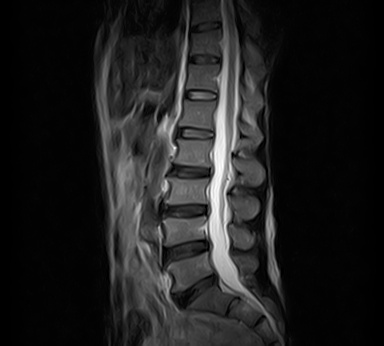L1,v2: (170, 94, 226, 133)
L2,v2: (168, 134, 220, 166)
L2-L3,v1: (159, 153, 219, 189), (169, 113, 220, 150)
L3,v2: (155, 173, 219, 208), (166, 134, 221, 171)
L3-L4,v2: (152, 192, 218, 226)
L4,v2: (155, 212, 213, 247)
L4-L5,v2: (156, 229, 217, 271)
L5,v2: (159, 247, 218, 289)
L5-S1,v2: (167, 269, 226, 306)
T12-L1,v2: (171, 76, 230, 113)
